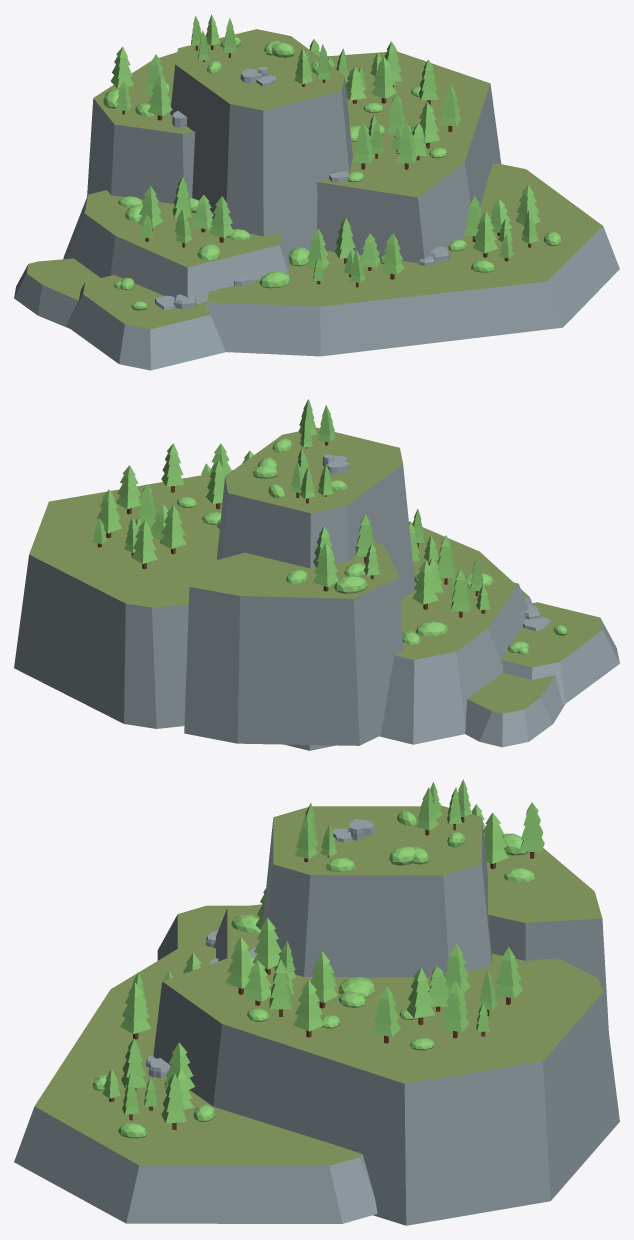
File: Mountain4.fbx
The picture shows the model from 3 angles, top to bottom: view 1: azimuth 30°, elevation 25°; view 2: azimuth 150°, elevation 25°; view 3: azimuth 270°, elevation 25°; orthographic projection. The views are drawn at different scales.
Visible parts, largest first — view 1: Cube; view 2: Cube; view 3: Cube.
Boxes of the visible parts, bbox=[...] form: Cube: bbox=[14, 14, 619, 370]; Cube: bbox=[14, 399, 619, 750]; Cube: bbox=[14, 779, 619, 1225].
Bounding box in the file's own units: 6464 × 3261 × 5729.
